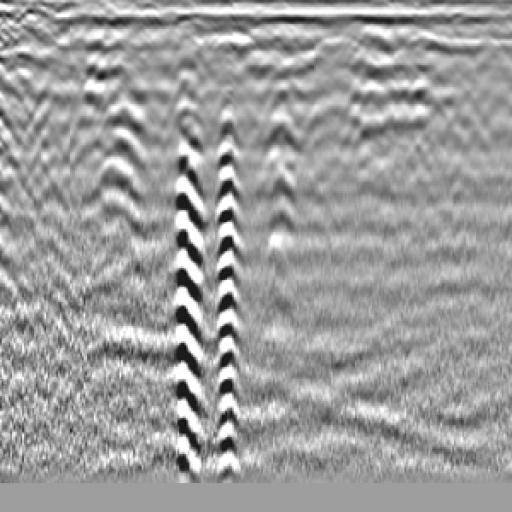metalic: (58, 46, 176, 279)
